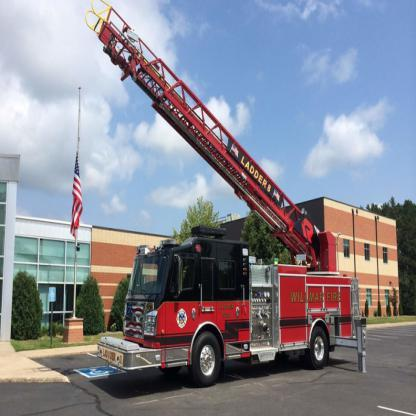fire-truck: (20, 3, 385, 399)
